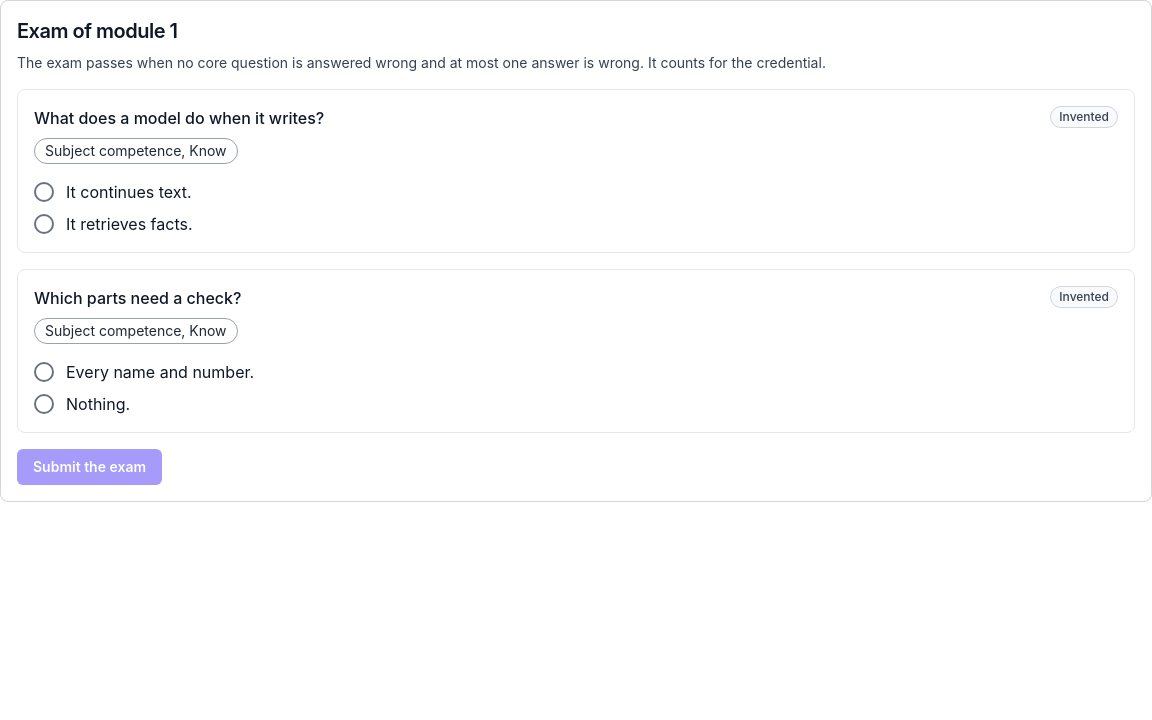
Test: ExamSection › the outcome failed_errors renders with its reason and no percent sign
Expected: the heading "Exam of module 1" is shown, [17,19,178,43]
Step 1. Click the radio button named "It continues text." next to "It continues text." → coordinates (44, 192), box [34,182,54,202]
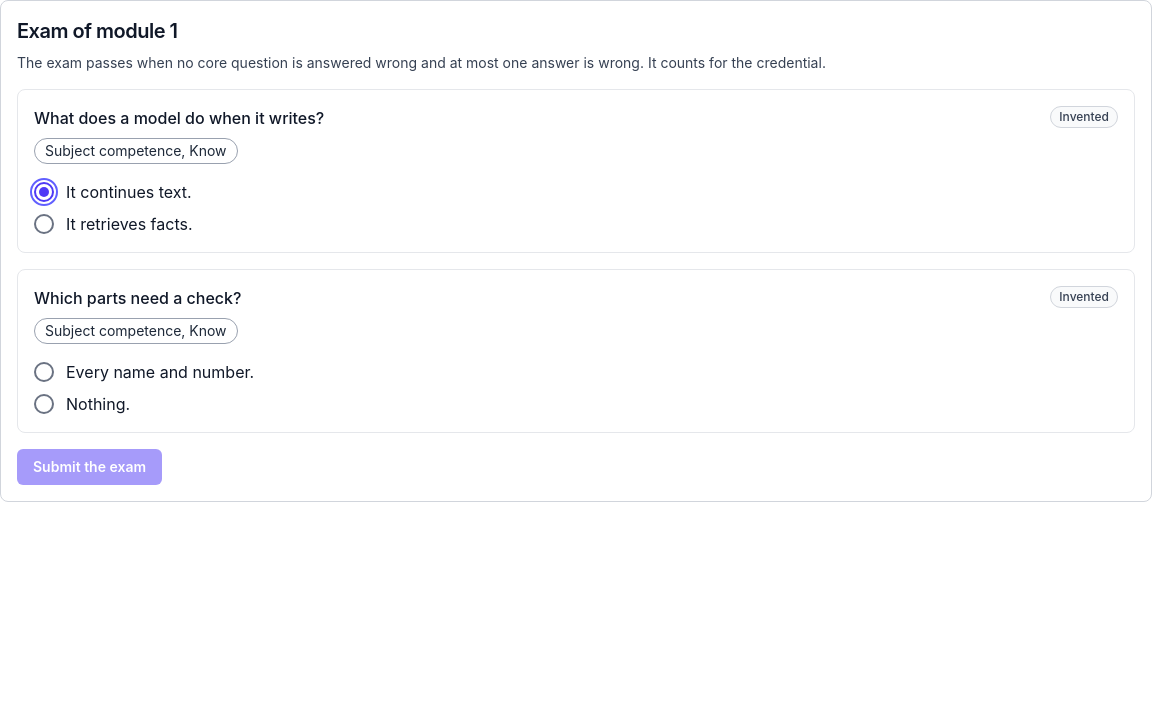
Step 2. Click the radio button named "Nothing." next to "Nothing." → coordinates (44, 404), box [34,394,54,414]
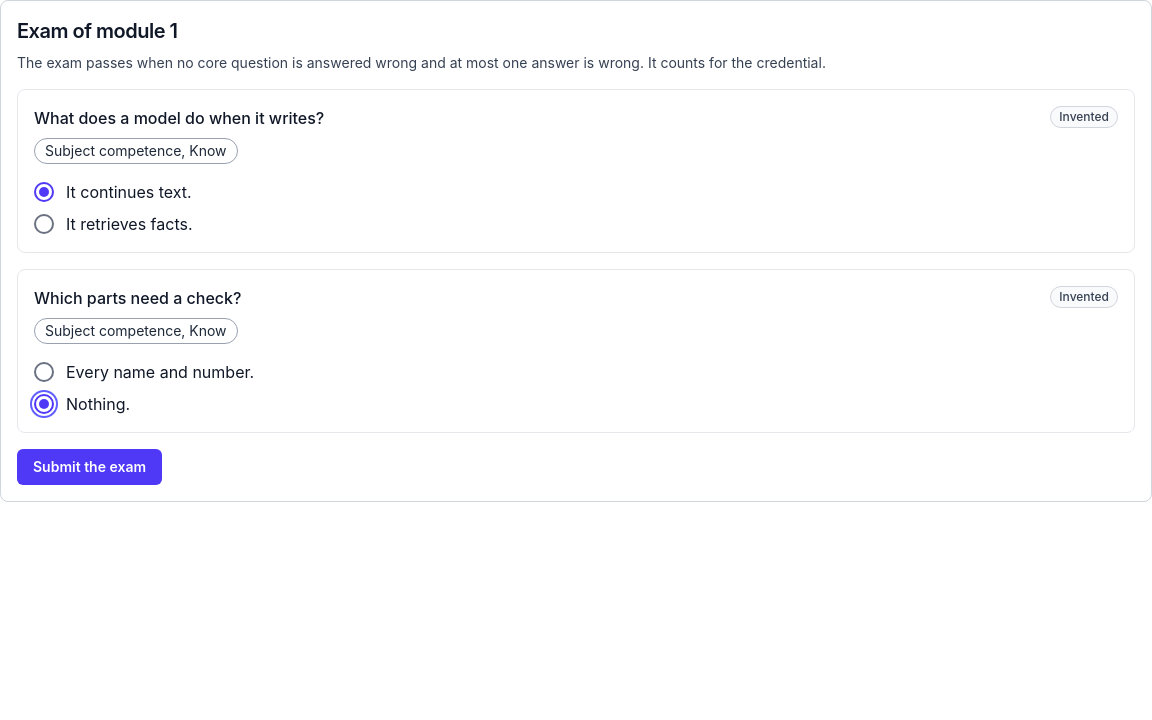
Step 3. Click the button "Submit the exam" → coordinates (90, 467), box [17,449,162,485]
(page scrolled)
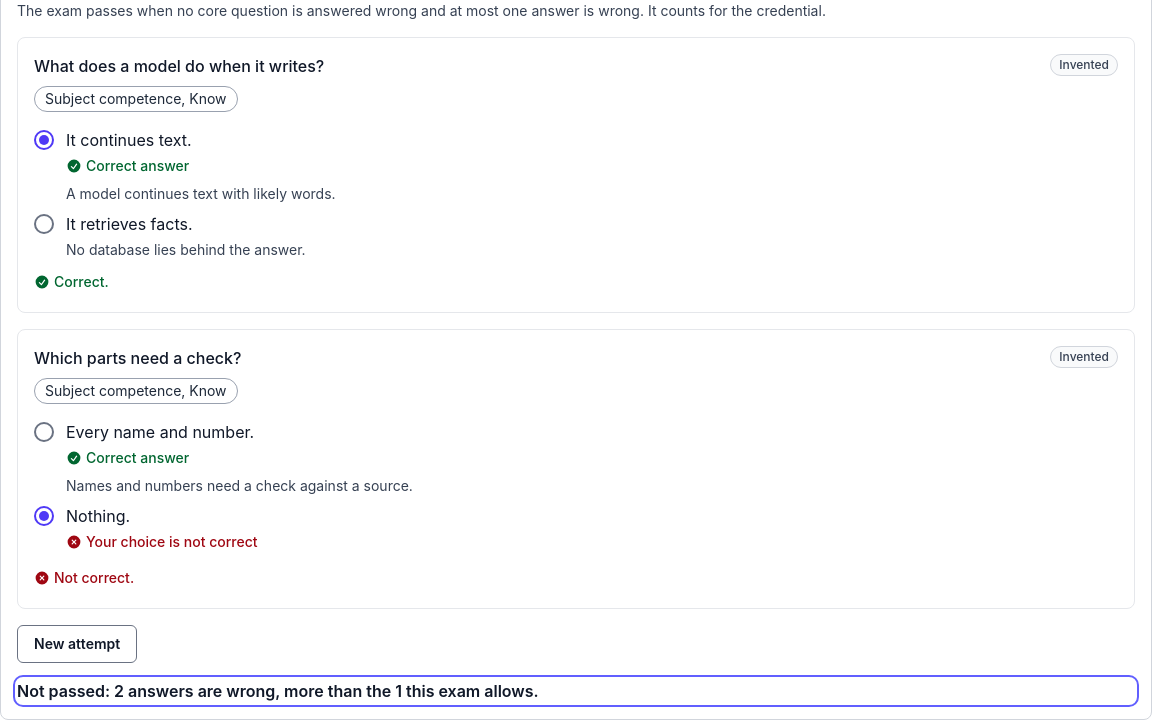
Expected: the text "Not passed: 2 answers are wrong, more than the 1 this exam allows." is shown, [17,681,539,701]
